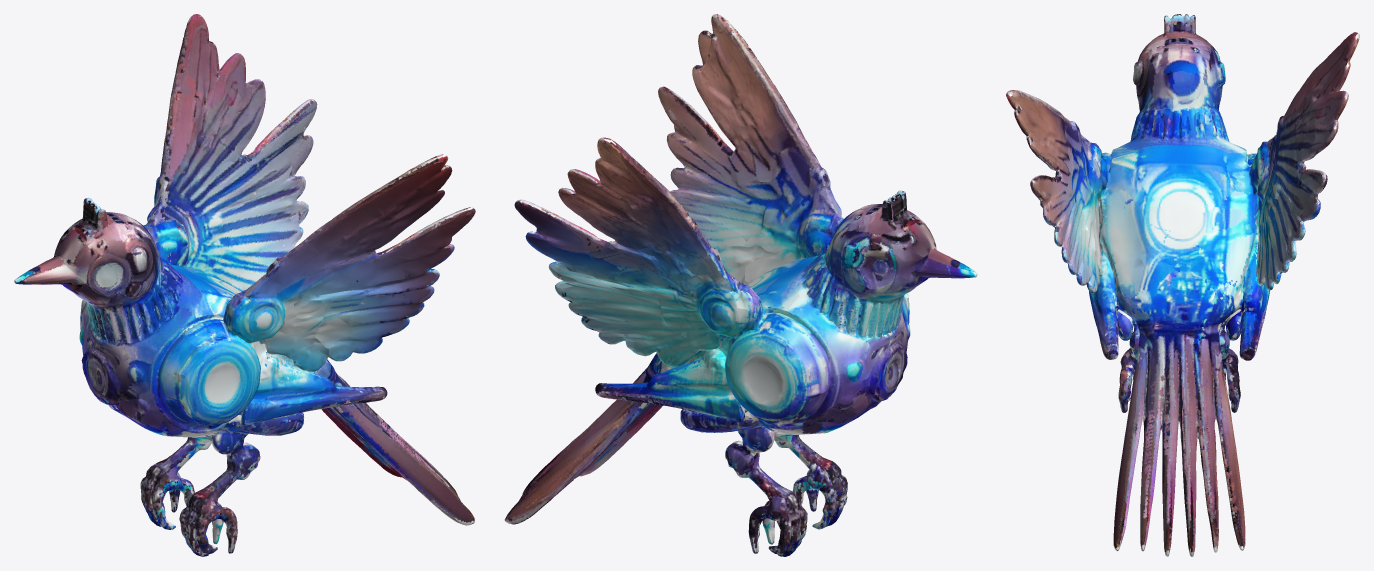
Rendered from text2tex.glb.
3 views of the same model, side by side, from view 1: azimuth 30°, elevation 25°; view 2: azimuth 150°, elevation 25°; view 3: azimuth 270°, elevation 25° (orthographic). The views are drawn at different scales.
Parts seen in each view (by area): view 1: 9; view 2: 9; view 3: 9.
Boxes of the visible parts, <box> form: 9: <box>14,14,475,556</box>; 9: <box>504,14,977,556</box>; 9: <box>1006,14,1359,556</box>.
Bounding box in the file's own units: 0.9987 × 1 × 0.7188.
1 material, 1 textured.
